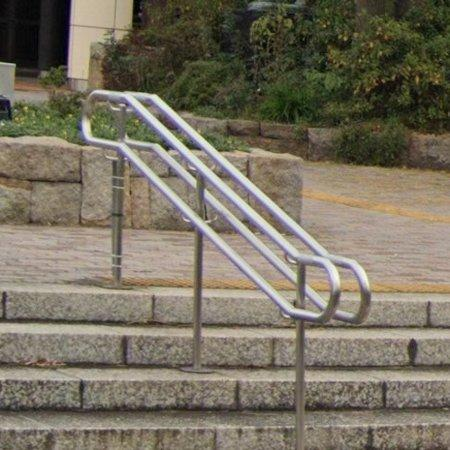stairs: (0, 289, 295, 450), (307, 296, 450, 450)
